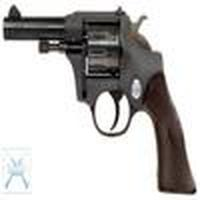gun: (3, 17, 200, 197)
